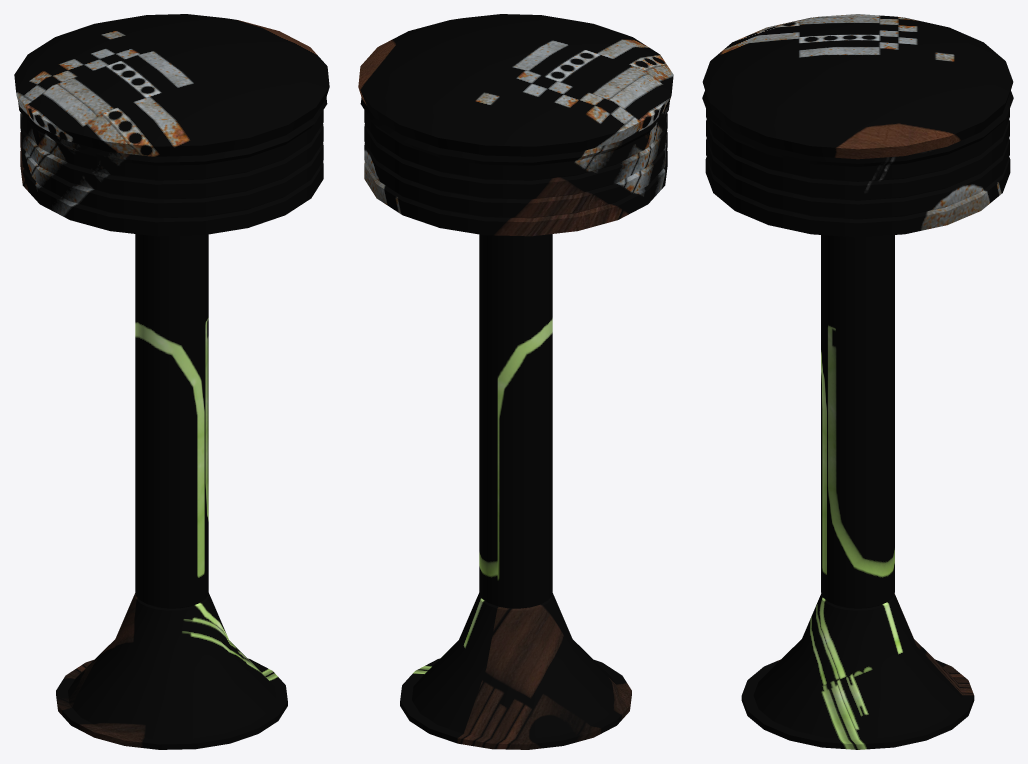
The model's file is diner_stool.fbx.
3 renders of one model, left to right at view 1: azimuth 30°, elevation 25°; view 2: azimuth 150°, elevation 25°; view 3: azimuth 270°, elevation 25°, orthographic.
Parts seen in each view (by area): view 1: bar_stool; view 2: bar_stool; view 3: bar_stool.
Part boxes in pixels (box(x1,y1,x2,y2)): bar_stool: box(14, 14, 329, 749); bar_stool: box(358, 14, 673, 749); bar_stool: box(702, 14, 1013, 749).
Bounding box in the file's own units: 3.08 × 6.85 × 3.01.
